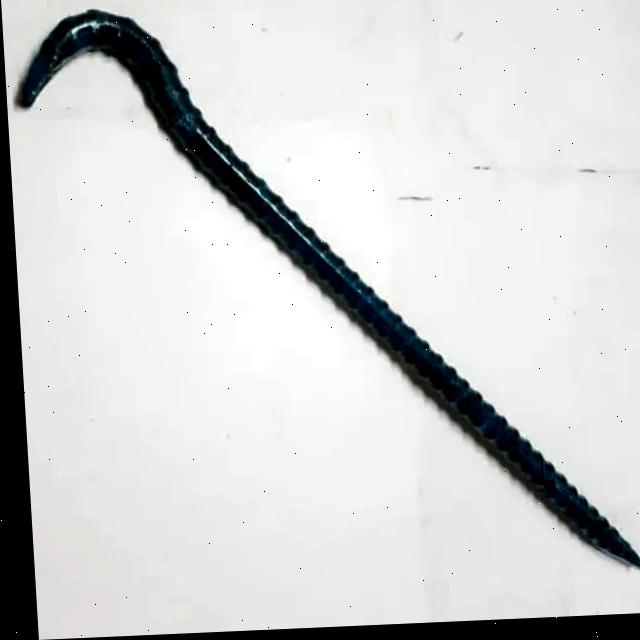crow bar: (4, 5, 640, 578)
